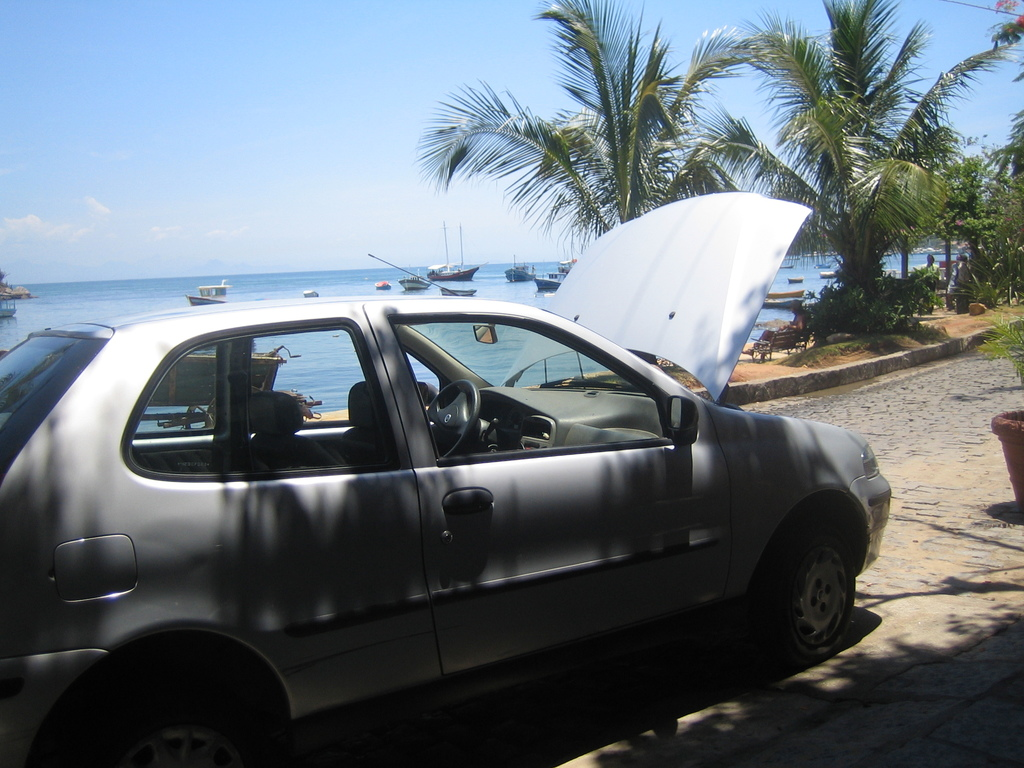Car: (0, 189, 892, 767)
